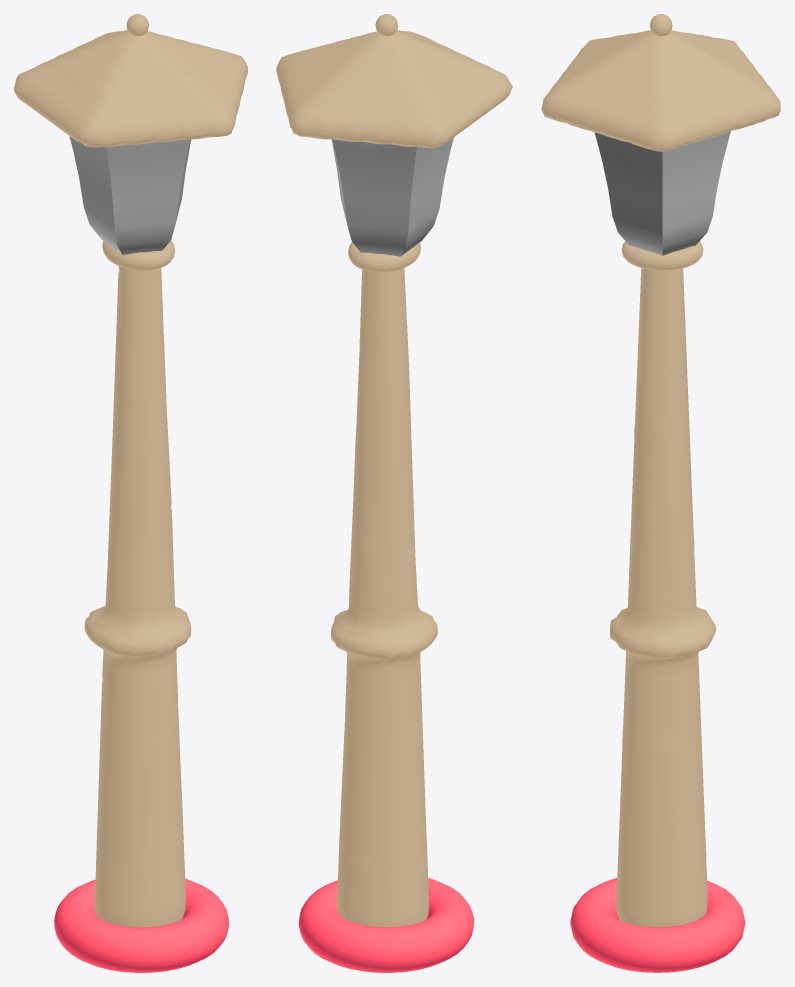
Rendered from Lamp.fbx.
3 views of the same model, side by side, from view 1: azimuth 30°, elevation 25°; view 2: azimuth 150°, elevation 25°; view 3: azimuth 270°, elevation 25° (orthographic).
Visible parts, largest first — view 1: Volume_Mesher_1, Polygon, Capsule, Torus_2, Torus; view 2: Volume_Mesher_1, Polygon, Capsule, Torus_2, Torus; view 3: Volume_Mesher_1, Polygon, Capsule, Torus_2, Torus.
Boxes of the visible parts, x1,y1,x2,y2 form: Volume_Mesher_1: [84, 266, 191, 927]; Polygon: [14, 30, 247, 147]; Capsule: [69, 136, 191, 254]; Torus_2: [54, 878, 228, 972]; Torus: [102, 240, 174, 270]; Volume_Mesher_1: [331, 268, 437, 927]; Polygon: [276, 30, 512, 148]; Capsule: [331, 137, 453, 256]; Torus_2: [298, 878, 474, 972]; Torus: [348, 242, 420, 272]; Volume_Mesher_1: [610, 268, 716, 927]; Polygon: [541, 30, 780, 151]; Capsule: [594, 131, 730, 255]; Torus_2: [570, 878, 745, 972]; Torus: [621, 241, 703, 270].
Size of the model in its own units: 963 by 4295 by 1005.
